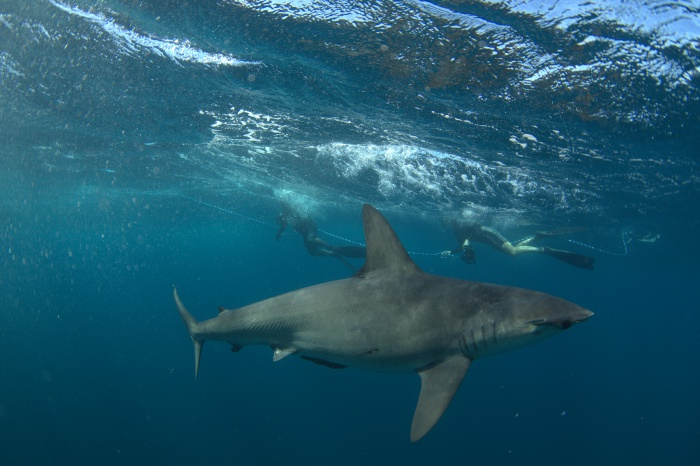Hammer: (156, 185, 597, 436)
